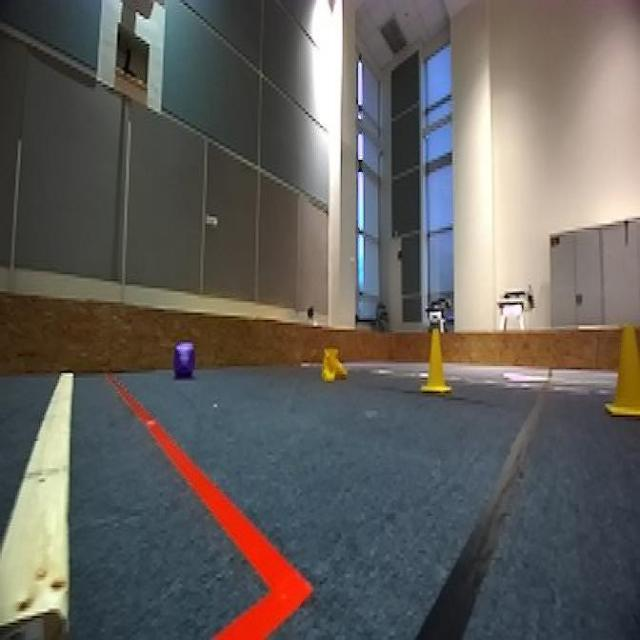frc_cone: (608, 327, 639, 419), (419, 320, 452, 397), (320, 346, 351, 381)
frc_cube: (170, 339, 196, 378)
